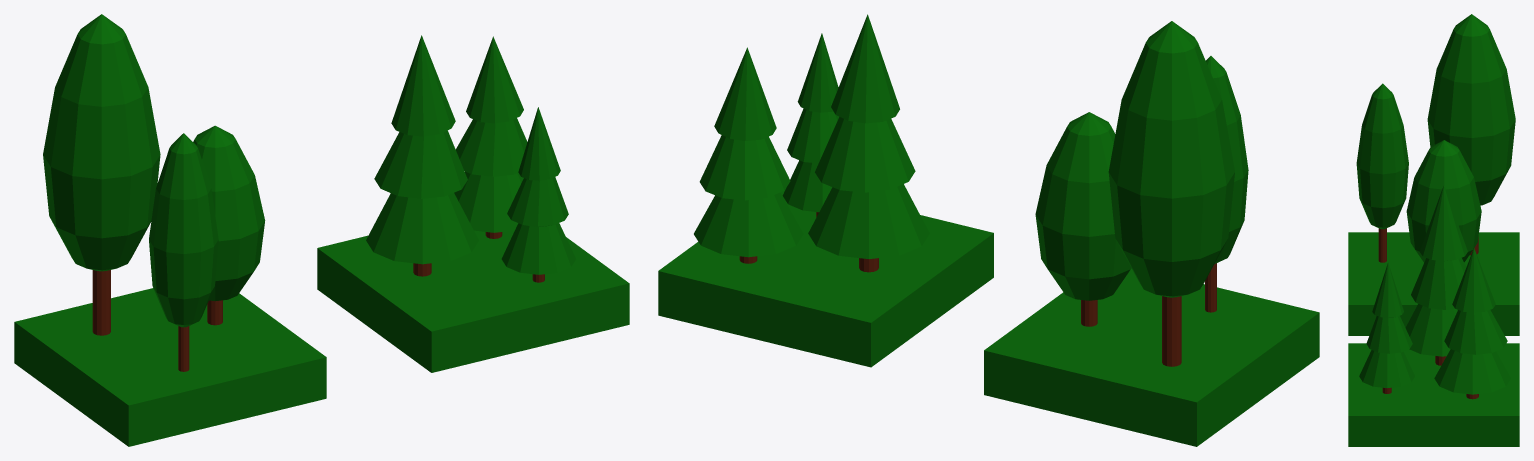
File: TileSetAddition(Trees).FBX
3 views of the same model, side by side, from view 1: azimuth 30°, elevation 25°; view 2: azimuth 150°, elevation 25°; view 3: azimuth 270°, elevation 25° (orthographic). The views are drawn at different scales.
Parts seen in each view (by area): view 1: TreeTile, TreeTile001; view 2: TreeTile, TreeTile001; view 3: TreeTile, TreeTile001.
Part boxes in pixels (x1,y1,x2,y2): TreeTile: [14, 14, 326, 446]; TreeTile001: [317, 35, 629, 372]; TreeTile: [984, 21, 1319, 446]; TreeTile001: [658, 14, 993, 367]; TreeTile: [1348, 14, 1519, 335]; TreeTile001: [1348, 185, 1519, 446].
Size of the model in its own units: 2529 by 1734 by 1000.
